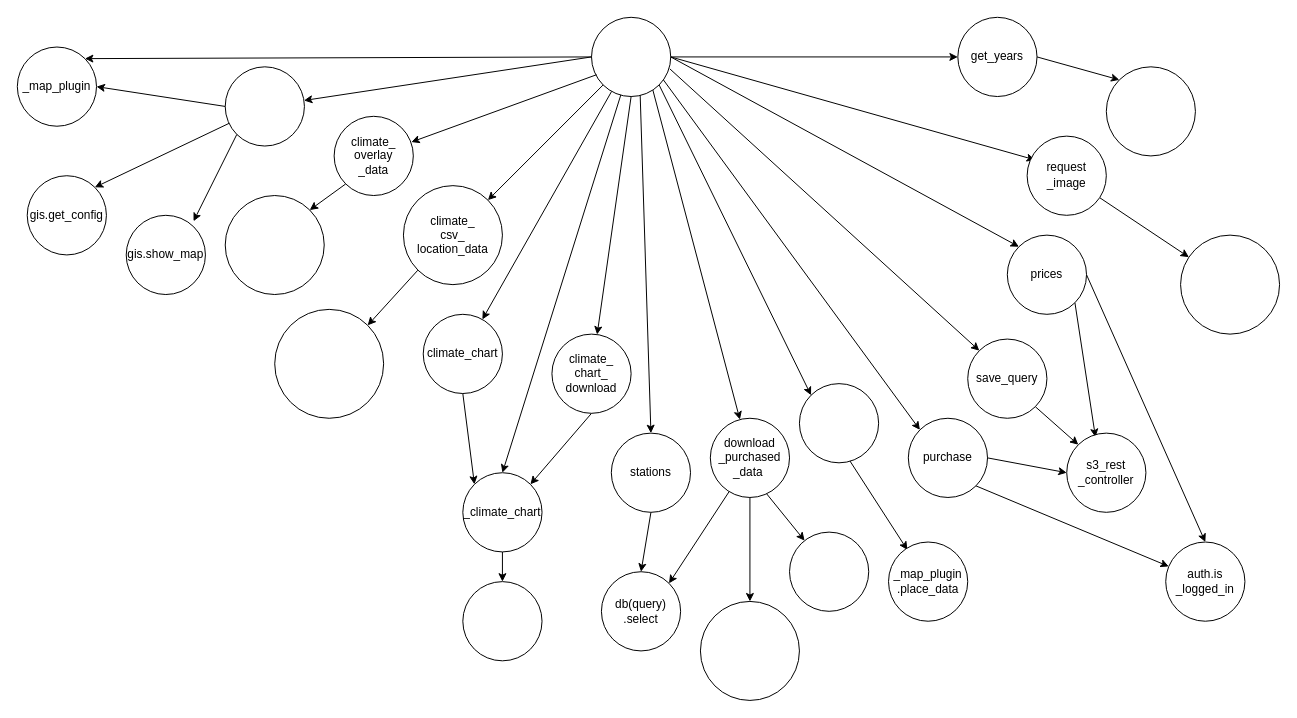
This 1297x718 diagram has some shape labels left out. The centre of each missing label's shape, as x and y in pixels:
"_map _plugin.get _overlay_data" goes at (274,245).
"_map_ plugin. render_plots" goes at (502,621).
"_map_plugin .printable_map _image_file" goes at (1230,284).
"_map_plugin. get_available _years" goes at (1150,111).
"_map_plugin.get _csv _location_data" goes at (329,363).
"climate.py" goes at (631,56).
"index()" goes at (264,106).
"places" goes at (838,423).
"sample_table .csv_data" goes at (829,571).
"SampleTable .with_id" goes at (749,650).
